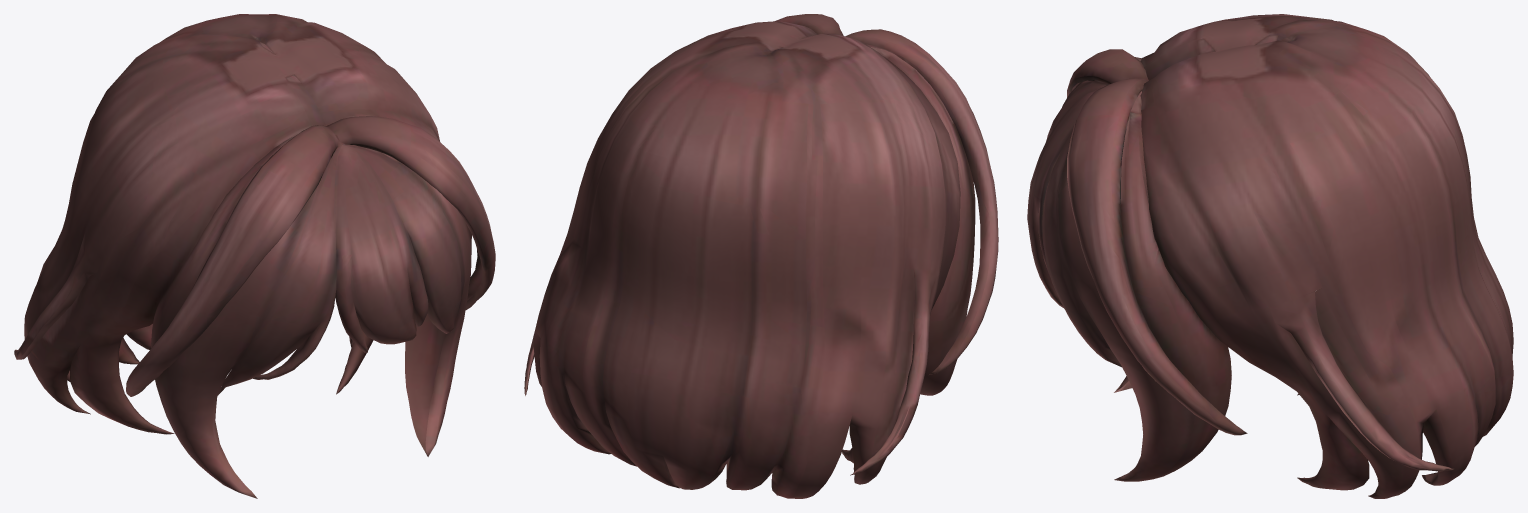
File: hair_3_bob.glb
3 views of the same model, side by side, from view 1: azimuth 30°, elevation 25°; view 2: azimuth 150°, elevation 25°; view 3: azimuth 270°, elevation 25° (orthographic). The views are drawn at different scales.
Parts seen in each view (by area): view 1: Hair_3_bob; view 2: Hair_3_bob; view 3: Hair_3_bob.
Part boxes in pixels (x1,y1,x2,y2): Hair_3_bob: [14, 14, 495, 498]; Hair_3_bob: [524, 14, 998, 498]; Hair_3_bob: [1027, 14, 1513, 498].
Bounding box in the file's own units: 0.5136 × 0.4946 × 0.5428.
Materials: 1 (1 with a texture image).
